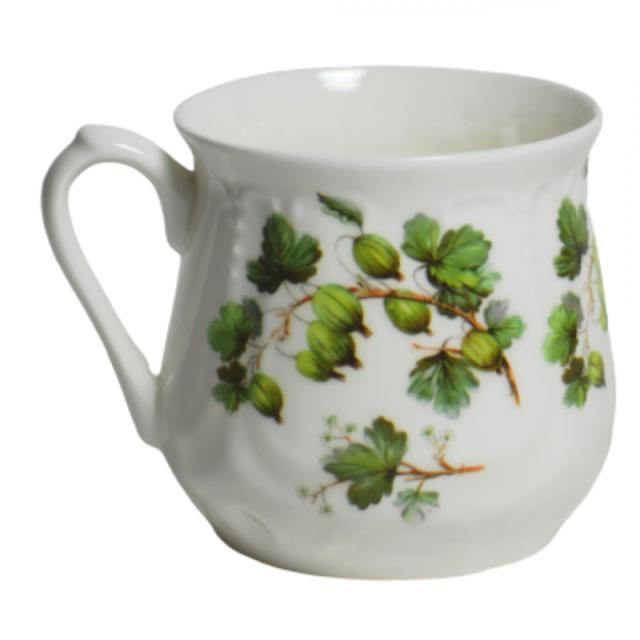Coffee Mug: (41, 64, 616, 575)
